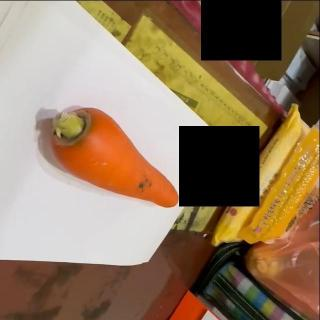carrot: (50, 106, 180, 210)
